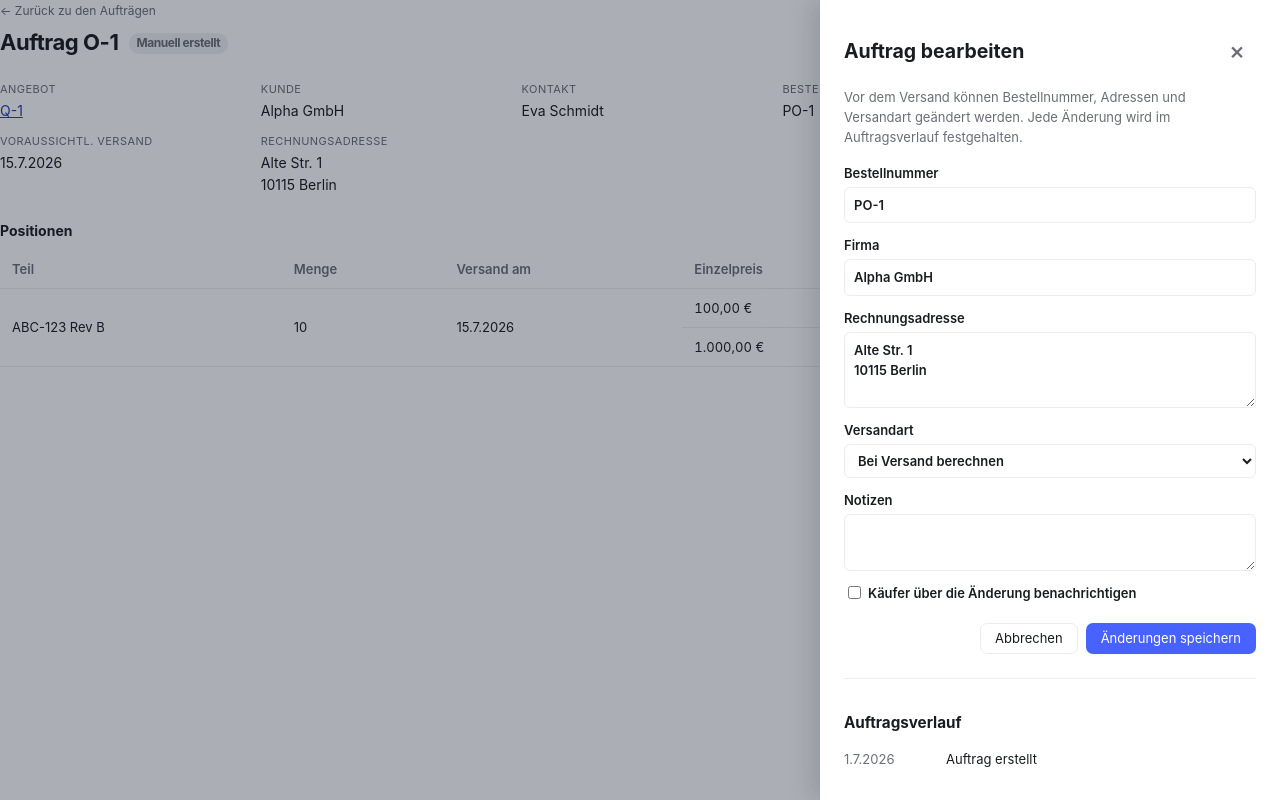
Scenario: EditOrderDrawer › blocks an empty edit with a no-changes message
Click the button "Änderungen speichern".
click(1171, 639)  # box [1086,623,1256,654]
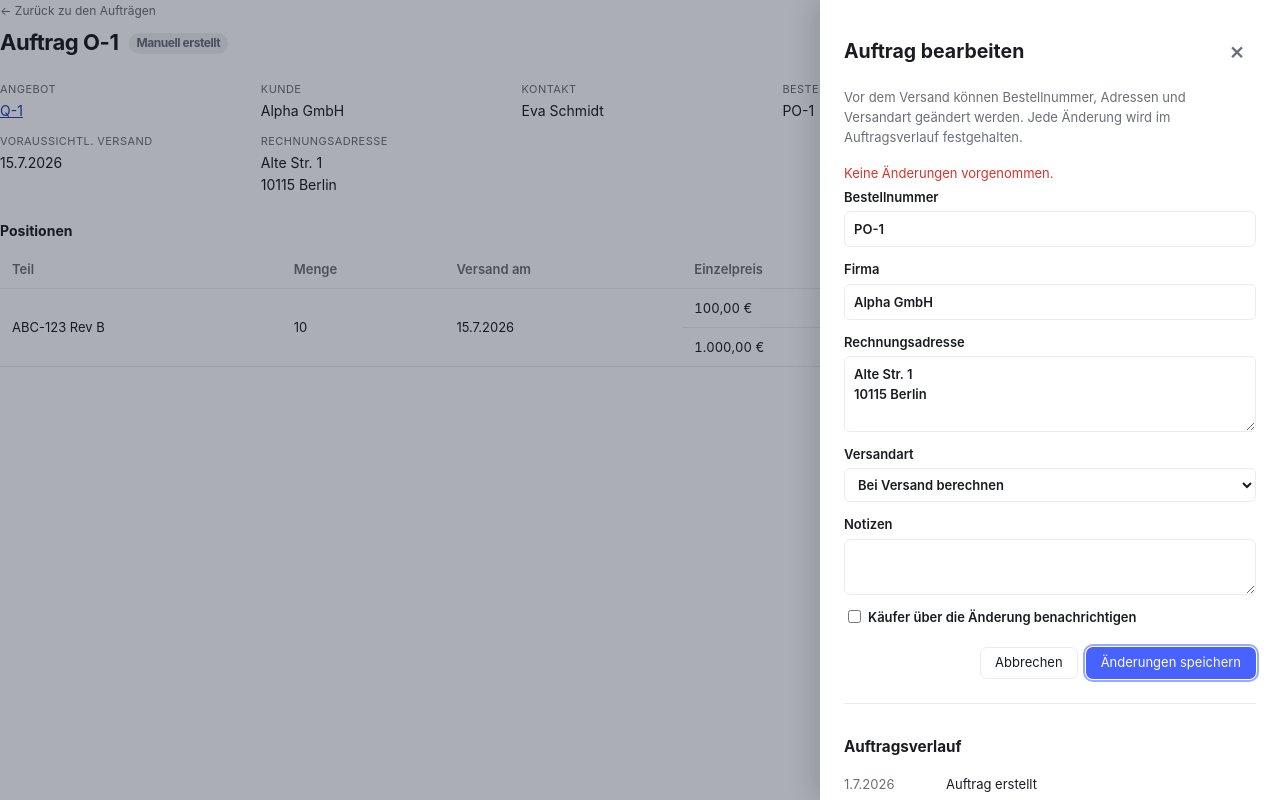
Expected: the text "Keine Änderungen vorgenommen." is shown, [844,165,1054,181]
